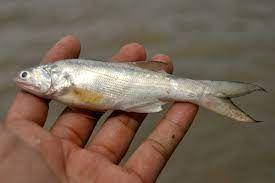Fourfinger Threadfish: (13, 59, 265, 127)
